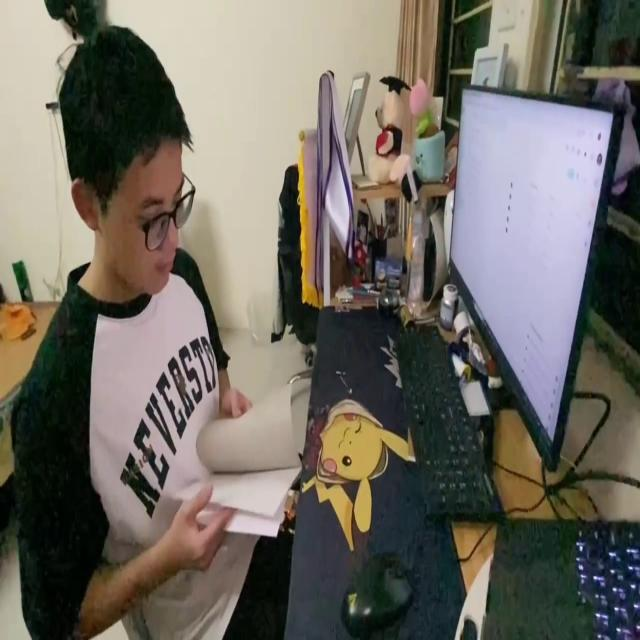book: (188, 377, 308, 545)
laptop: (444, 79, 628, 478), (477, 508, 640, 639)
student: (9, 15, 286, 640)
